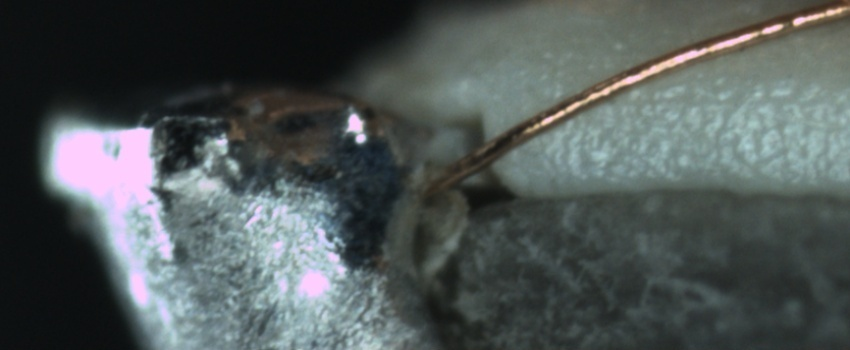DL: (575, 67, 839, 131)
